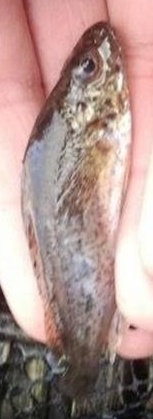Gymnocephalus cernuus: (20, 20, 133, 399)
